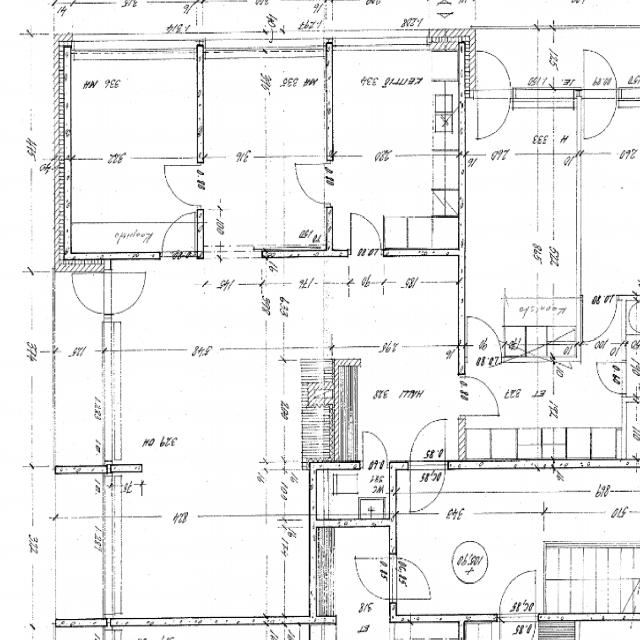door: (410, 418, 445, 468), (410, 460, 445, 510), (478, 47, 510, 101), (583, 48, 616, 100), (70, 274, 112, 314), (458, 375, 498, 415), (164, 165, 203, 205), (583, 294, 615, 339), (351, 214, 381, 259), (362, 429, 388, 468), (596, 363, 627, 393)
